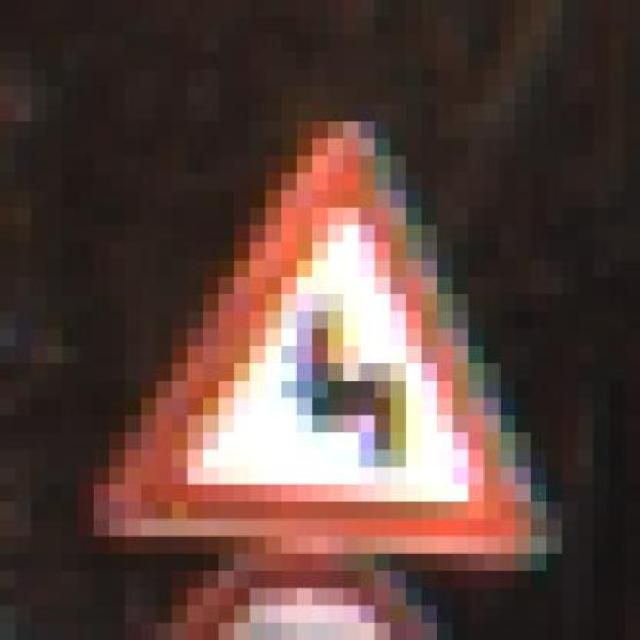Left Zig Zag Traffic: (78, 103, 578, 571)
